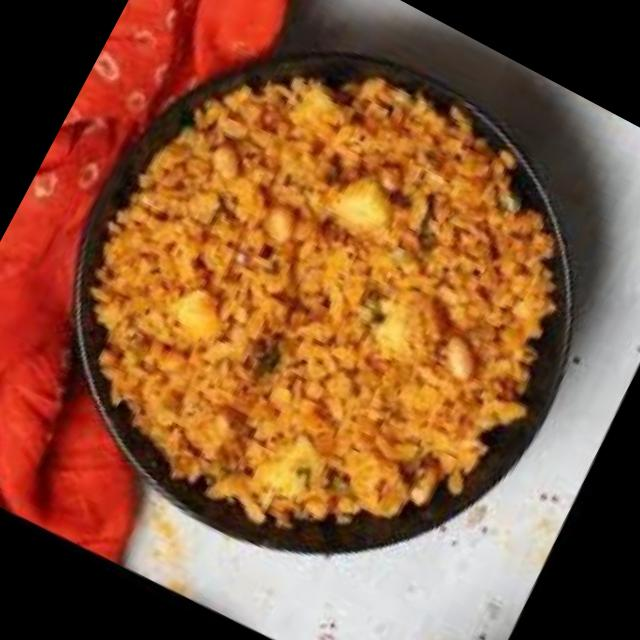poha: (3, 0, 640, 625)
